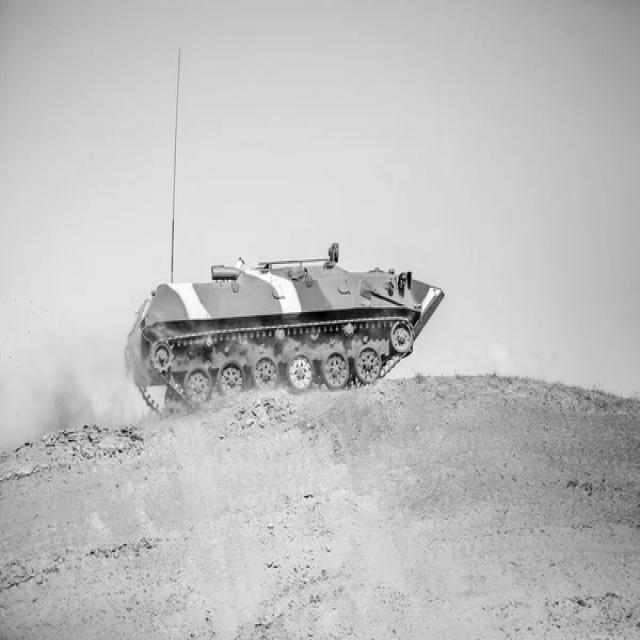Tank: (122, 236, 450, 424)
